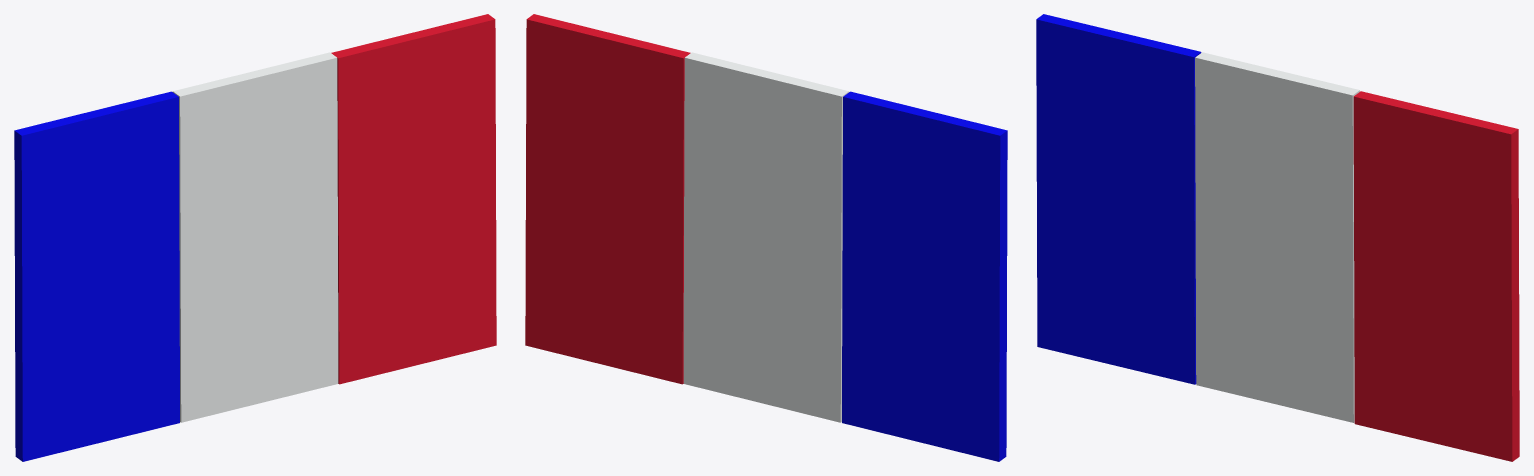
File: francia.fbx
The picture shows the model from 3 angles, left to right: view 1: azimuth 30°, elevation 25°; view 2: azimuth 150°, elevation 25°; view 3: azimuth 330°, elevation 25°; orthographic projection.
Visible parts, largest first — view 1: Cube.003, Cube.002, Cube.001; view 2: Cube.003, Cube.002, Cube.001; view 3: Cube.001, Cube.003, Cube.002.
Boxes of the visible parts, x1,y1,x2,y2 form: Cube.003: (14,91,179,461); Cube.002: (172,52,338,422); Cube.001: (331,14,496,384); Cube.003: (842,91,1007,461); Cube.002: (683,52,849,422); Cube.001: (525,14,690,384); Cube.001: (1353,91,1519,461); Cube.003: (1036,14,1201,384); Cube.002: (1195,52,1359,422).
Size of the model in its own units: 1432 by 944 by 38.21.
